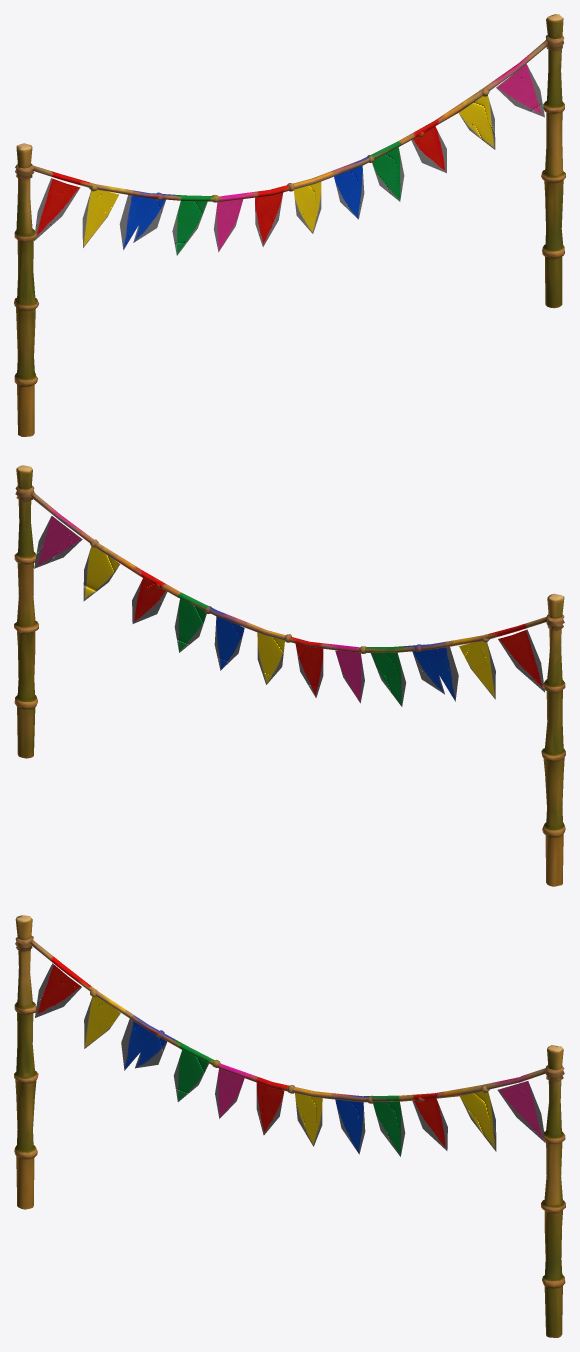
File: banderitas.glb
3 views of the same model, one above another, from view 1: azimuth 30°, elevation 25°; view 2: azimuth 150°, elevation 25°; view 3: azimuth 330°, elevation 25° (orthographic).
Visible parts, largest first — view 1: geometry_0; view 2: geometry_0; view 3: geometry_0.
Part boxes in pixels (x1,y1,x2,y2): geometry_0: (14, 14, 565, 436); geometry_0: (14, 465, 565, 886); geometry_0: (14, 915, 565, 1337).
Bounding box in the file's own units: 1 × 0.5047 × 0.04.
Materials: 1 (1 with a texture image).
